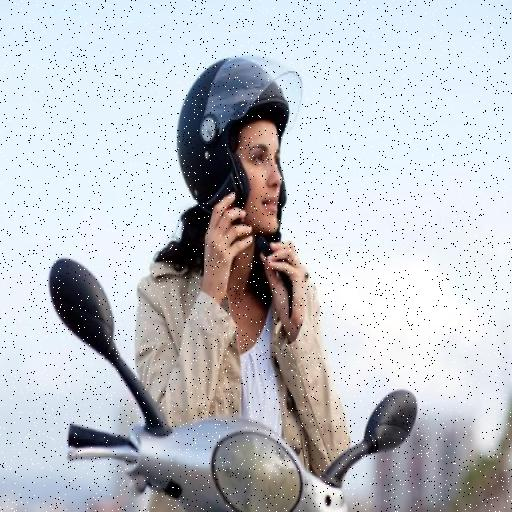Helmet: (176, 57, 292, 245)
